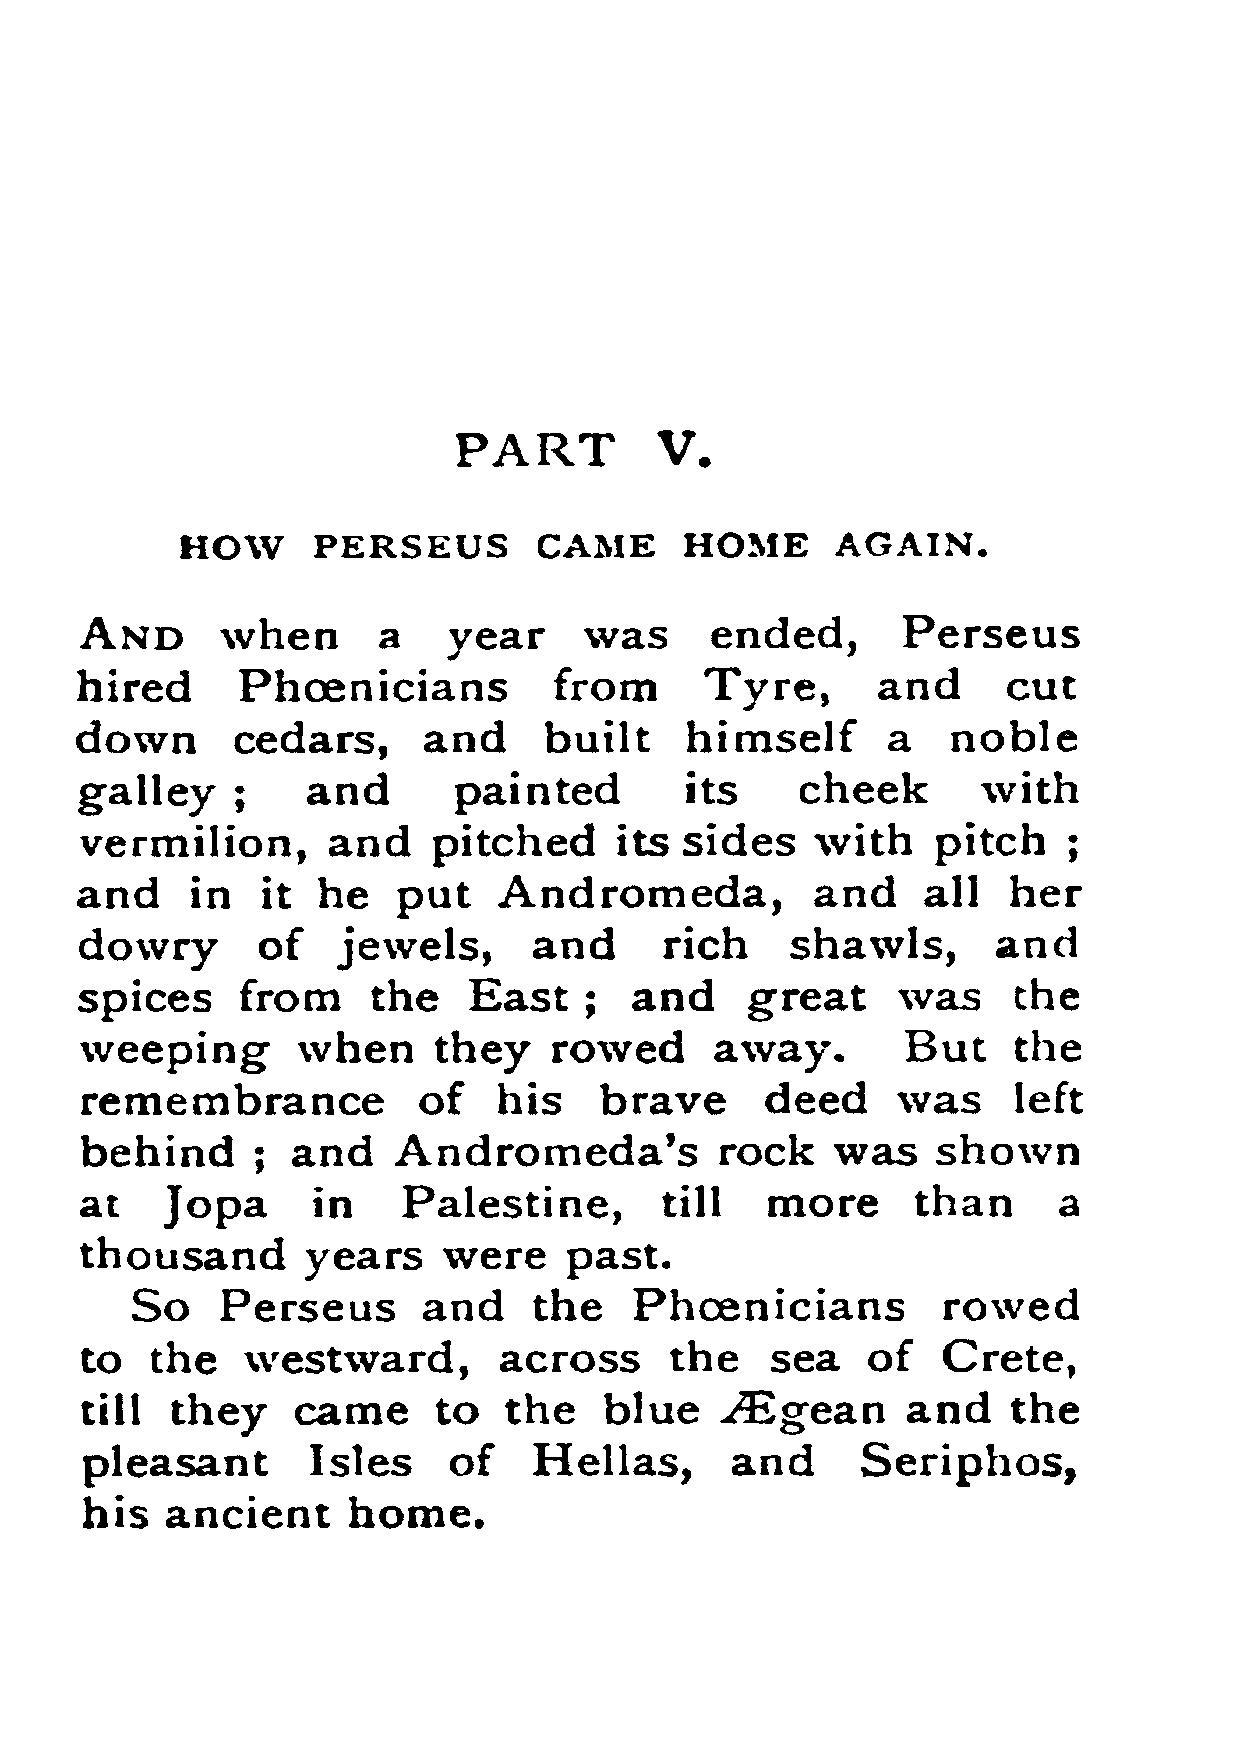chapter: (174, 429, 988, 564)
content: (72, 611, 1087, 1533)
